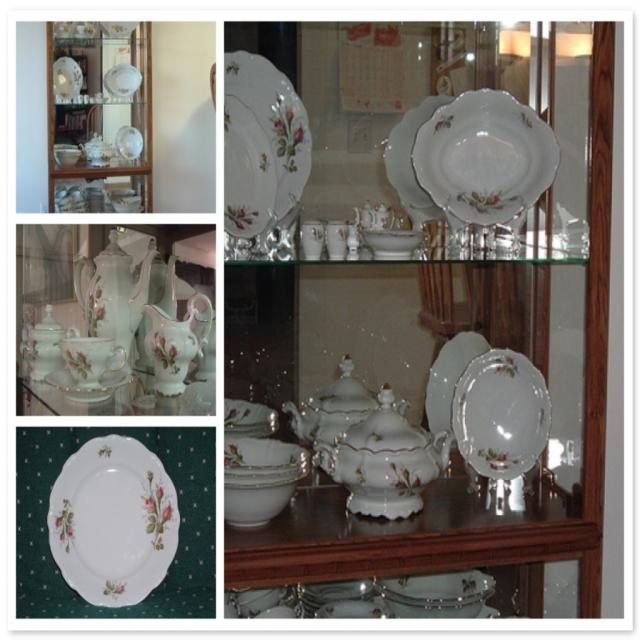non-organic waste: (366, 65, 588, 295), (409, 333, 604, 530), (181, 44, 326, 244)
